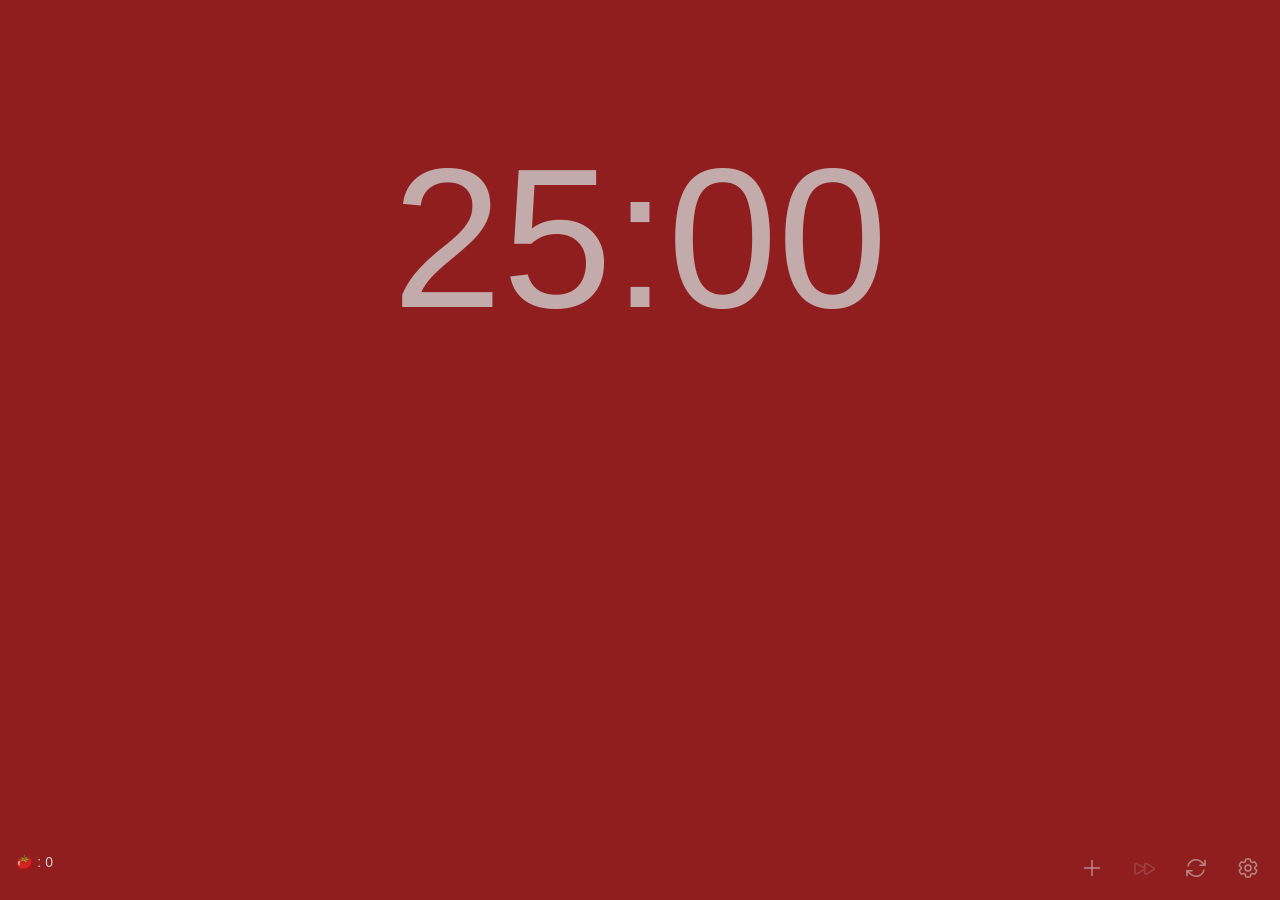
웹앱 (Tauri 브리지 없음) › 웹 설정에는 데스크톱 위젯 전용 항목 대신 앱 설치 안내가 있다
Click the button titled "설정" at (1248, 868), box [1228,848,1268,888]
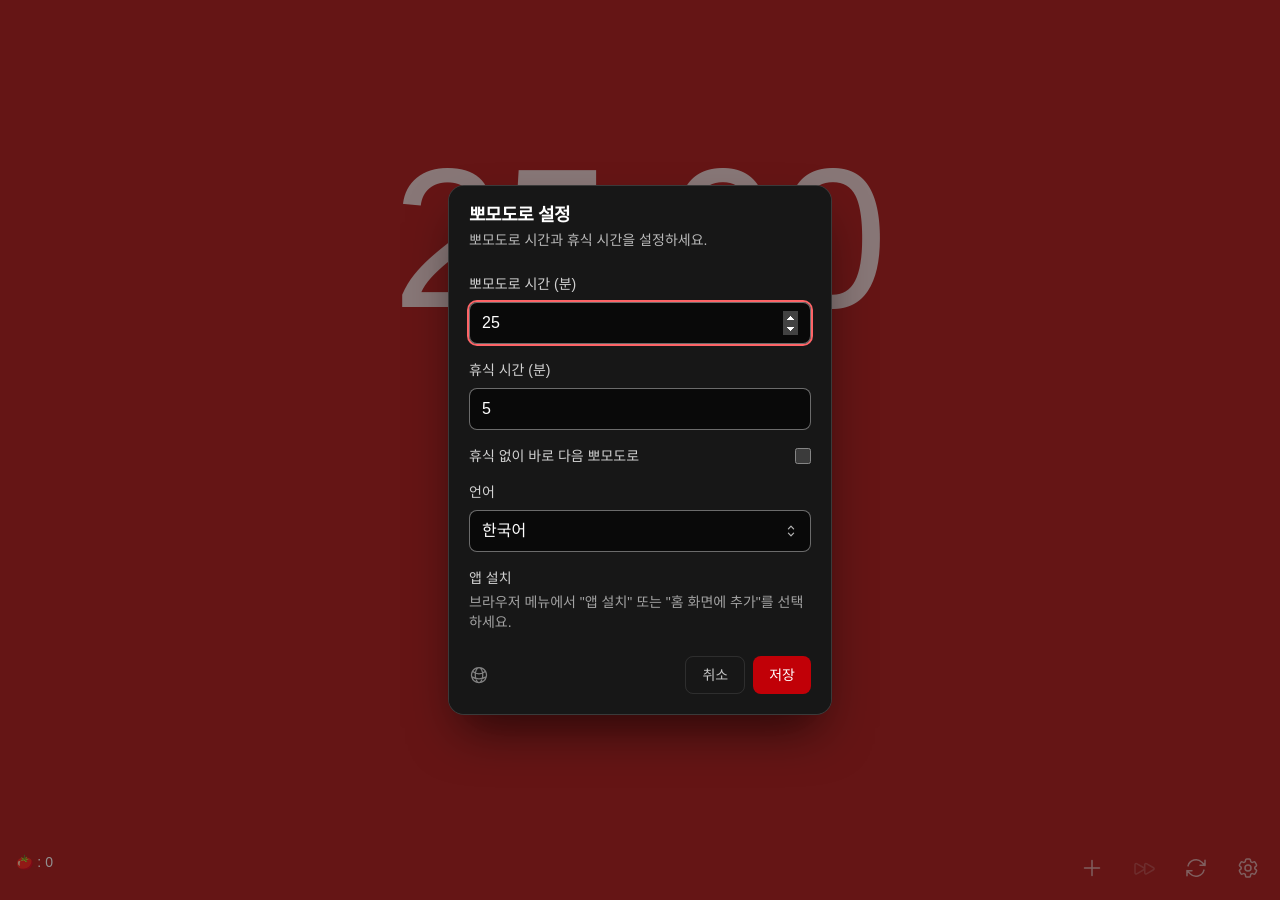
Now the text "앱 설치" is shown, box [469,570,512,586]
